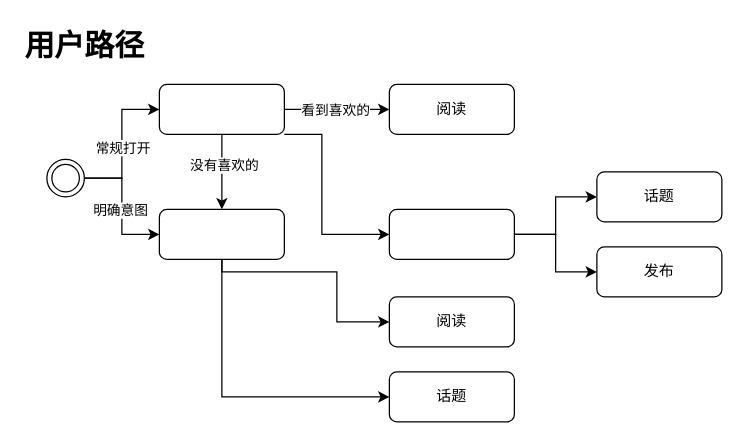
This 744x444 diagram has some shape labels left out. Here are the shapes that lost their labels. From the top down, the centre of each, then its label:
the point at 221,108: 推荐
the point at 221,233: 搜索
the point at 451,233: 书荒
